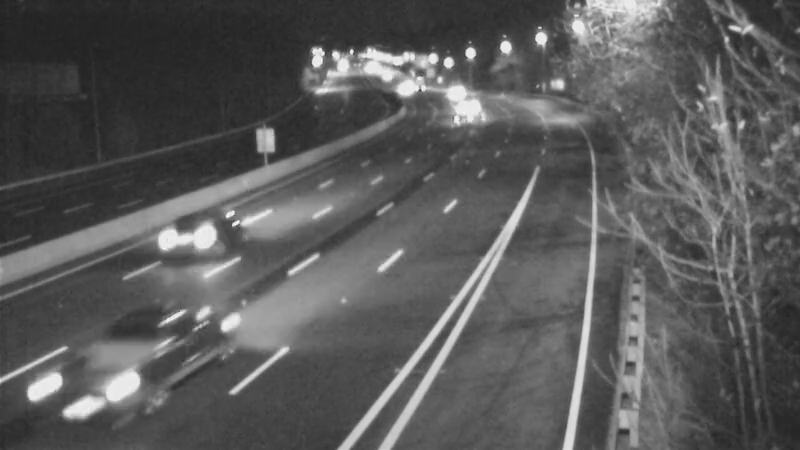vehicle: (92, 310, 202, 420), (141, 194, 221, 274), (394, 65, 444, 115), (380, 68, 430, 118), (431, 68, 481, 118), (444, 81, 494, 131), (444, 97, 494, 147)
